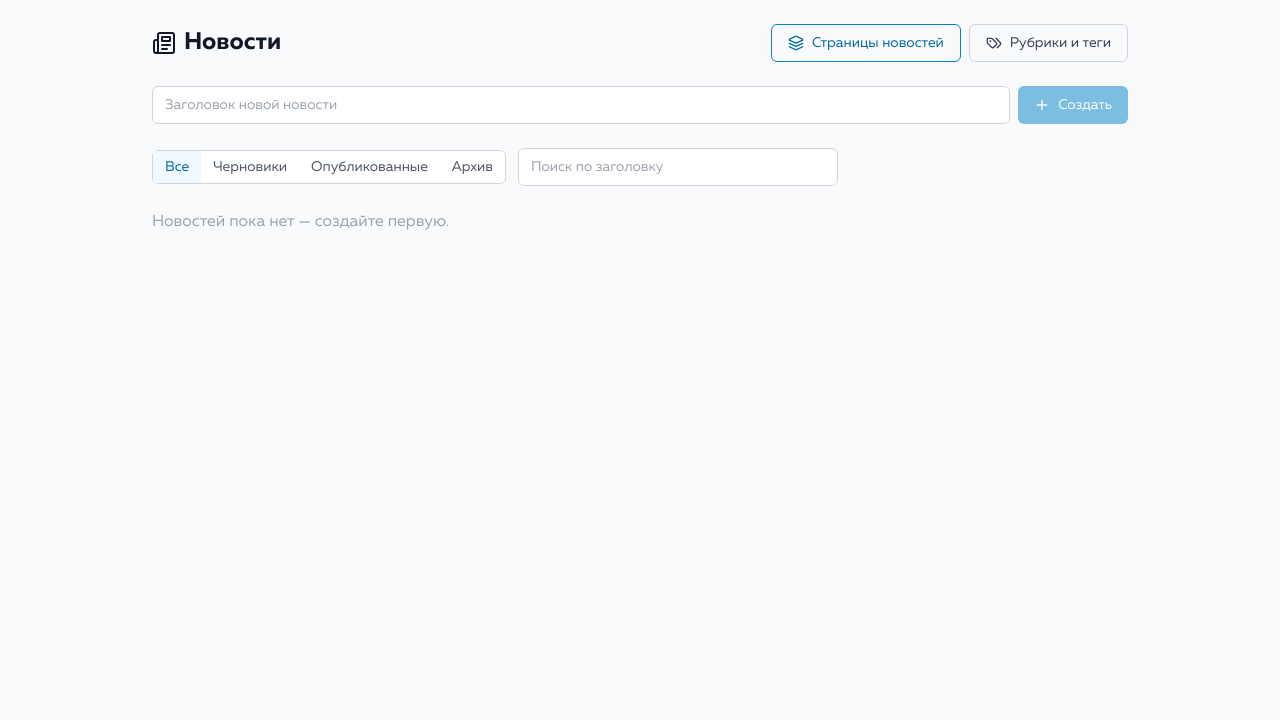
«Страницы новостей» › шаблон «Новость» выбран сам; создание — эндпоинт provision-news с /news
This screenshot has width=1280, height=720.
Click the button "Страницы новостей" at (866,43), box [771,24,961,62]
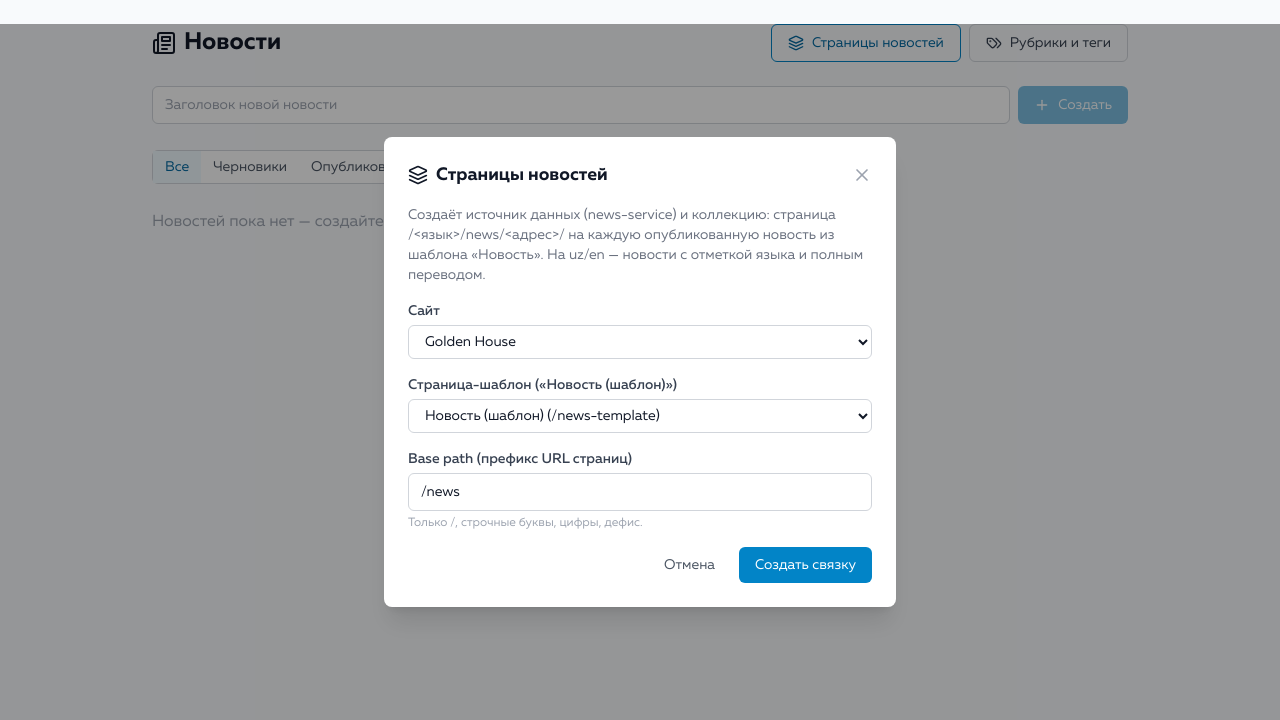
Result: the dropdown showing "Новость (шаблон) (/news-template)" below "Страница-шаблон («Новость (шаблон)»)" is shown at [408,399,872,433]
Result: the field showing "/news" is shown at [408,473,872,511]
Click the button "Создать связку" at (806,565), box [739,547,872,583]
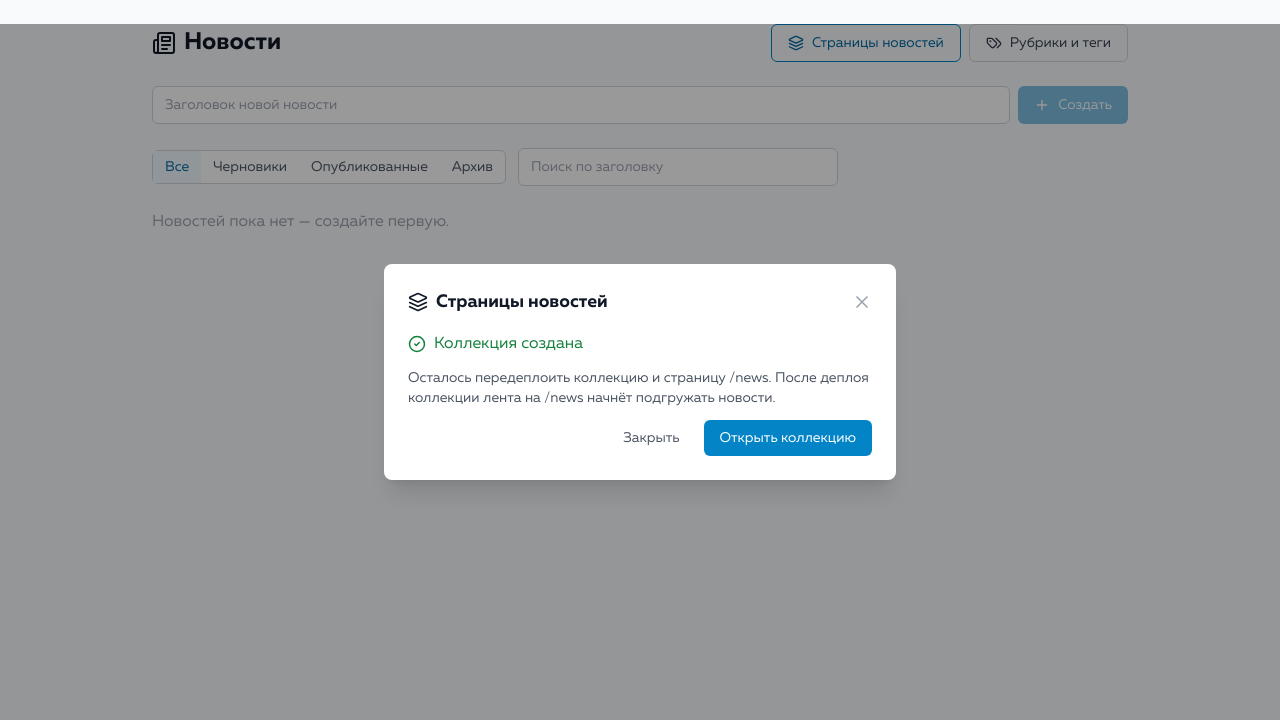
Result: the text "Коллекция создана" is shown at [408,335,583,353]
